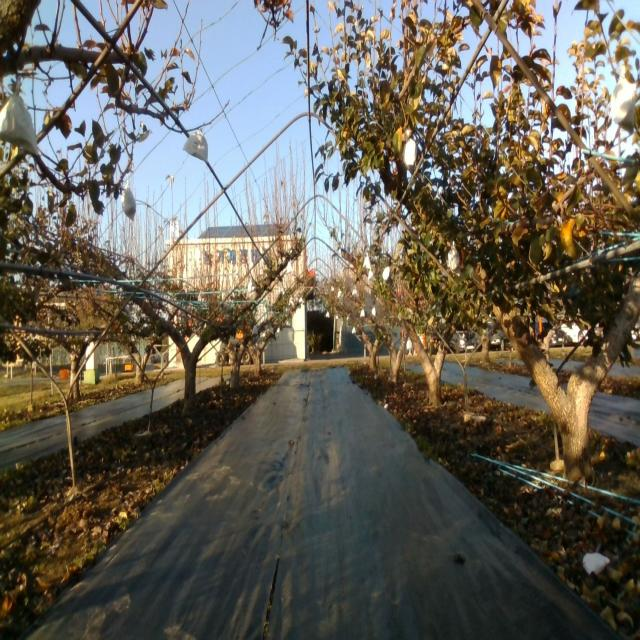pearbags: (0, 96, 39, 156), (609, 78, 639, 134), (182, 126, 207, 162), (121, 179, 136, 220), (402, 137, 418, 170), (448, 247, 460, 274)
